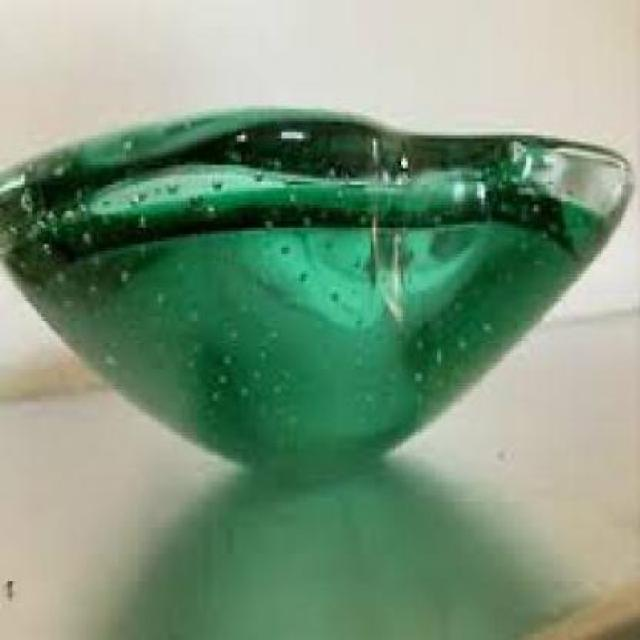kaca: (0, 106, 631, 472)
